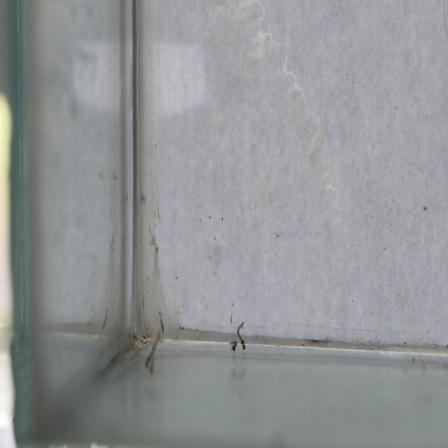Jentik-Nyamuk: (226, 317, 249, 357)
